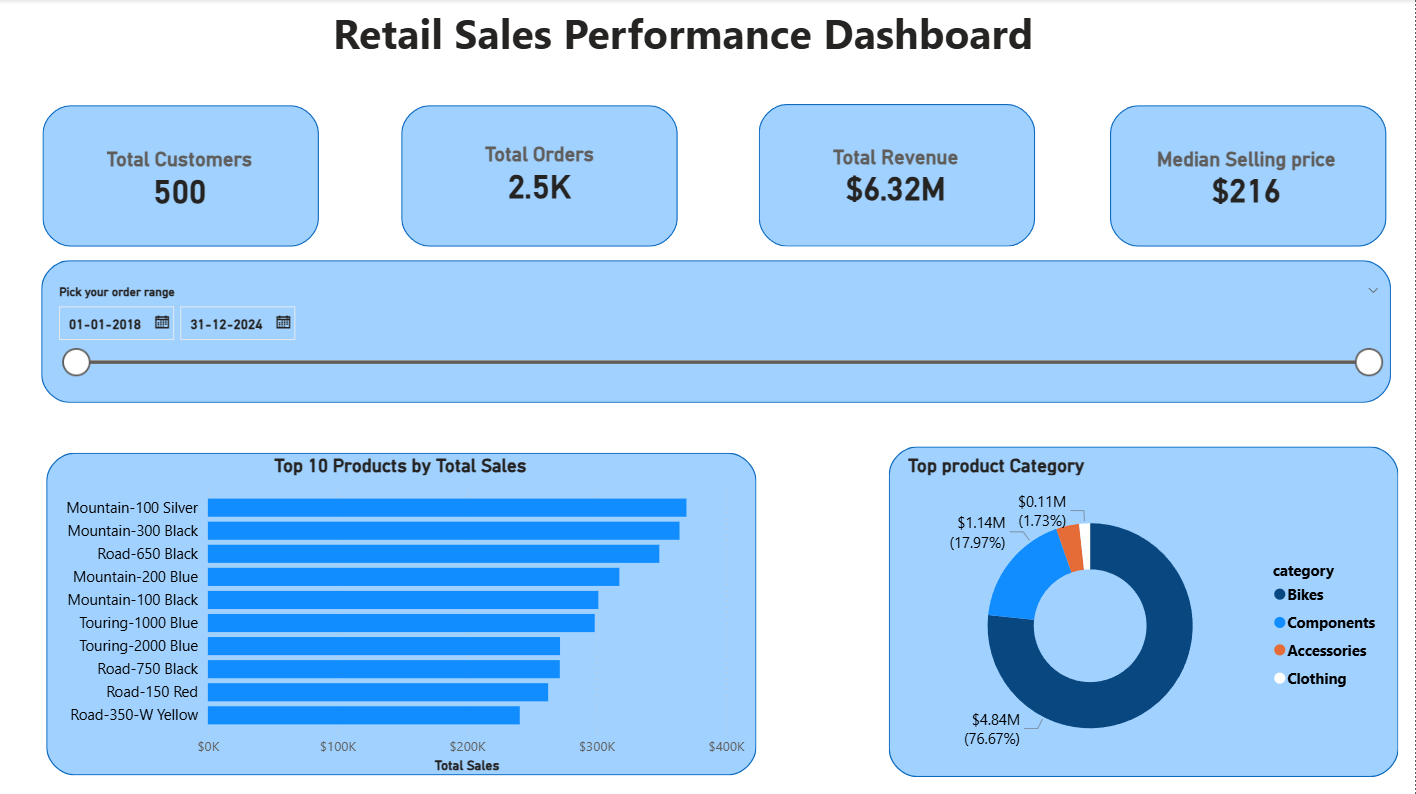

This screenshot's page, from the dashboard's own definition file:
{"tool":"powerbi","page":{"name":"Sales Performance Dashboard","canvas":[1280,720],"ordinal":0},"visuals":[{"type":"group","id":"g1","title":"Background","box":[37,95.5,1227.4,608.8],"z":0},{"type":"cardVisual","fields":{"Data":["Sum(sales (1).sales_amount)"]},"box":[702.3,96.5,216.3,127.9],"z":1000},{"type":"cardVisual","fields":{"Data":["Count(sales (1).order_number)"]},"box":[380.2,94.2,216.3,132.6],"z":2000},{"type":"clusteredBarChart","title":"Top 10 Products by Total Sales","fields":{"Category":["products (1).product_name"],"Y":["Sum(sales (1).sales_amount)"]},"box":[45.3,411.6,633.7,293],"z":3000},{"type":"donutChart","title":"Top product Category","fields":{"Category":["products (1).category"],"Y":["Sum(sales (1).sales_amount)"]},"box":[816.3,411.6,441.9,291.9],"z":4000},{"type":"slicer","fields":{"Values":["sales (1).order_date"]},"box":[40.7,253.3,1218.9,128.9],"z":5000},{"type":"textbox","box":[296.6,0,766.1,76.8],"z":6000},{"type":"shape","box":[37.8,96.3,250,127.9],"z":7000,"group":"g1"},{"type":"cardVisual","fields":{"Data":["Median(sales (1).price)"]},"box":[1015.1,98.8,224.4,127.9],"z":7000},{"type":"shape","box":[685.8,95.5,250,129.1],"z":8000,"group":"g1"},{"type":"shape","box":[362.8,96.5,250,127.9],"z":8000},{"type":"cardVisual","fields":{"Data":["Count(customers (1).customer_id)"]},"box":[54.7,96.5,216.3,132.6],"z":9000},{"type":"shape","box":[1003.3,96.7,250,127.9],"z":9000,"group":"g1"},{"type":"cardVisual","fields":{"Data":["Count(sales (1).order_number)"]},"box":[380.2,91.9,216.3,132.6],"z":10000},{"type":"shape","box":[41.8,411.1,642.4,291.8],"z":10000,"group":"g1"},{"type":"shape","box":[803.3,405.3,461.1,299],"z":11000,"group":"g1"},{"type":"shape","box":[37,236.8,1220.9,129.1],"z":12000,"group":"g1"}]}

Visuals, with their boxes in screenshot pixels (x1, y1, x2, y2), scaled from the page's 1280x720 canvas onto the 1416x794 screenshot:
"Background" group: [41,105,1399,777]
cardVisual - Sum(sales (1).sales_amount): [777,106,1016,247]
cardVisual - Count(sales (1).order_number): [421,104,660,250]
"Top 10 Products by Total Sales" clusteredBarChart: [50,454,751,777]
"Top product Category" donutChart: [903,454,1392,776]
slicer - sales (1).order_date: [45,279,1393,421]
textbox: [328,0,1176,85]
shape: [42,106,318,247]
cardVisual - Median(sales (1).price): [1123,109,1371,250]
shape: [759,105,1035,248]
shape: [401,106,678,247]
cardVisual - Count(customers (1).customer_id): [61,106,300,253]
shape: [1110,107,1386,248]
cardVisual - Count(sales (1).order_number): [421,101,660,248]
shape: [46,453,757,775]
shape: [889,447,1399,777]
shape: [41,261,1392,404]
